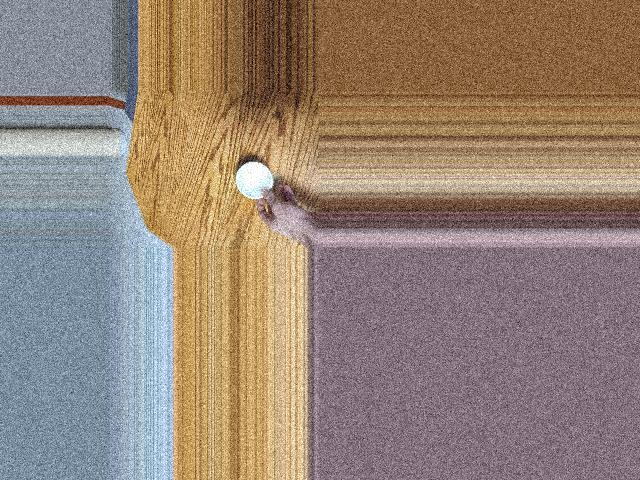cotage: (236, 160, 276, 202)
